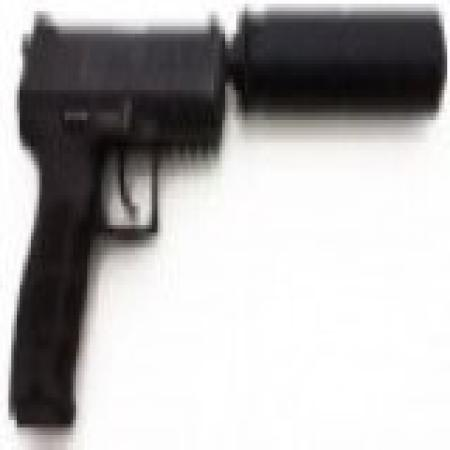Pistol: (14, 3, 447, 428)
